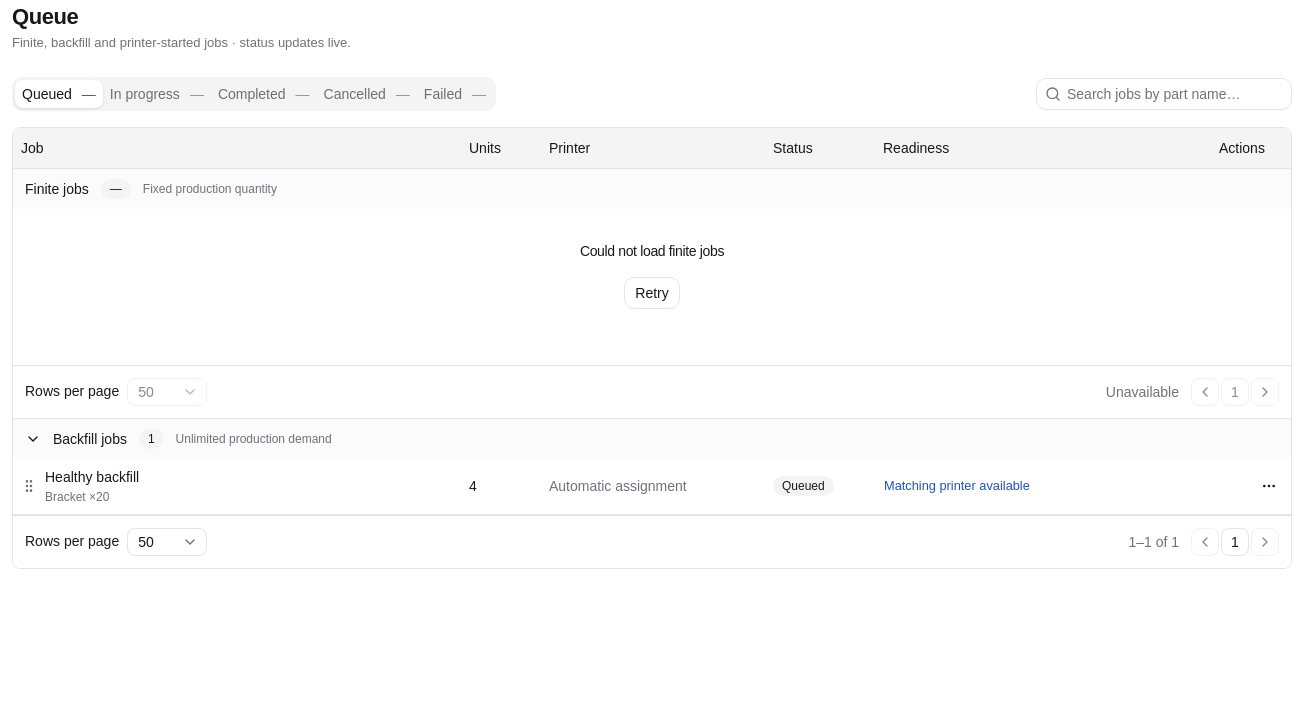
Test: QueuePage › keeps the healthy section visible when the other fails and offers retry
Expected: the text "Could not load finite jobs" is shown, [580,240,724,260]
Expected: the link "Healthy backfill" is shown, [45,469,139,485]
Click the button "Retry". click: {"x": 652, "y": 292}
box: [624,276,680,308]
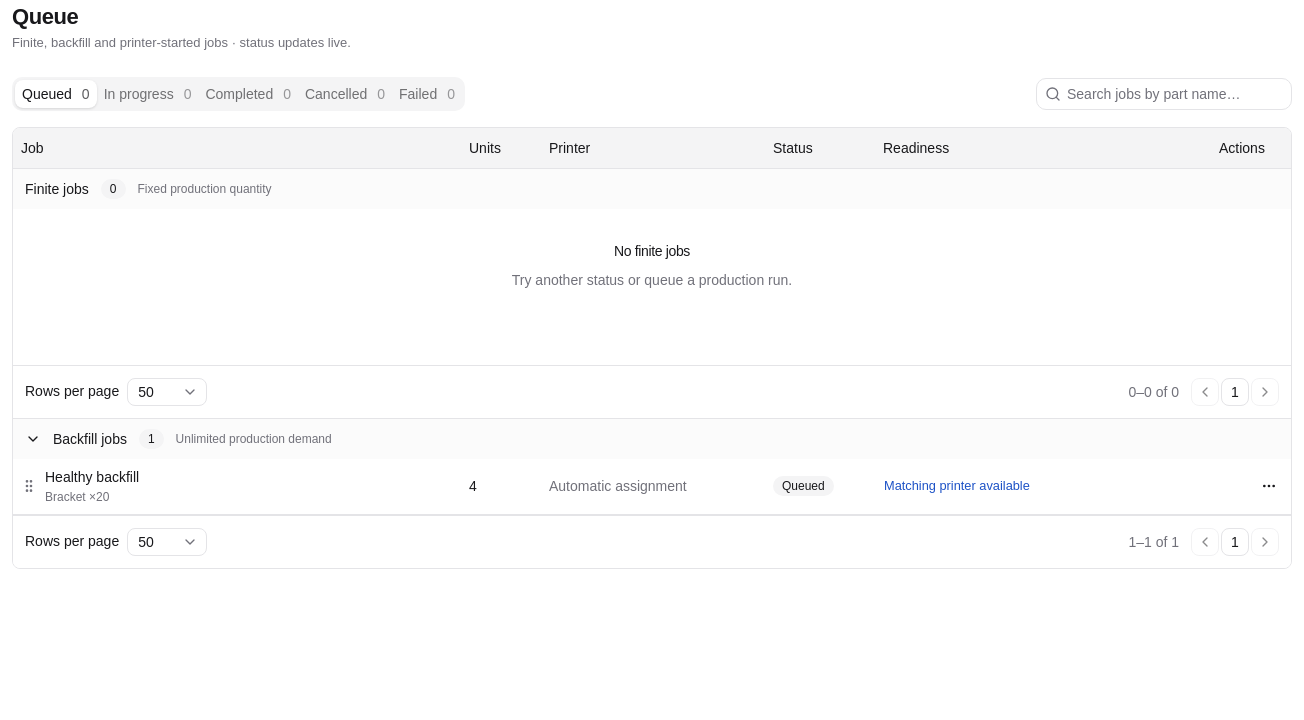
Expected: the text "No finite jobs" is shown, [614,240,690,260]
